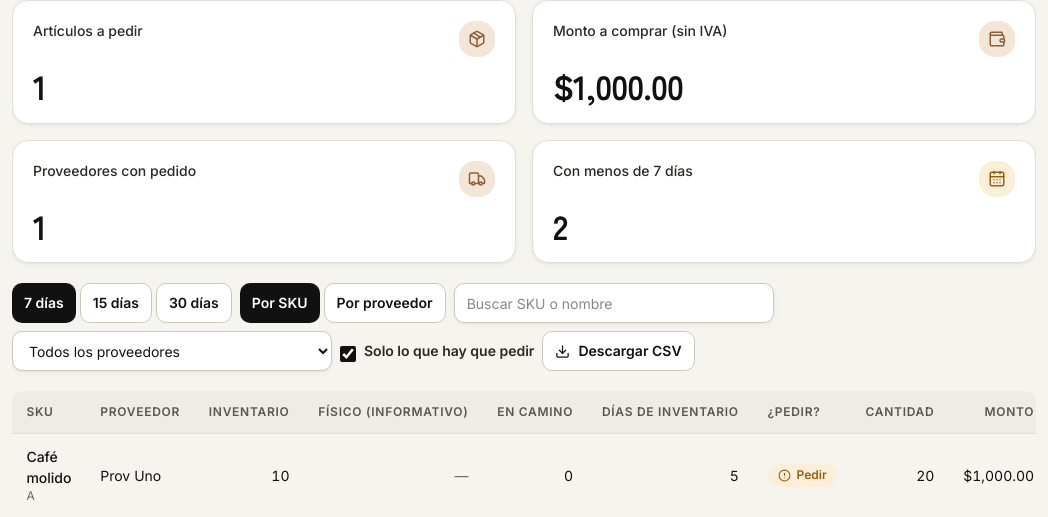
Qué pedir: correcciones I5 e I6 › la vista por proveedor cuenta todos sus artículos aunque solo muestre a quien hay que pedirle
Click the button "Por proveedor".
click(385, 303)  # box x1=324 y1=283 x2=446 y2=323
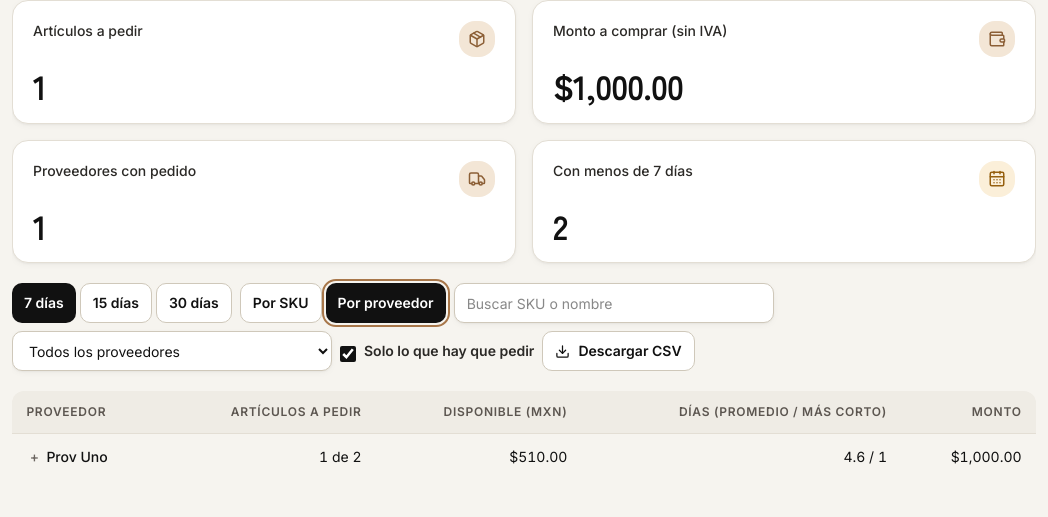
Result: the row "+ Prov Uno 1 de 2 $510.00 4.6 / 1 $1,000.00" is shown at x1=12 y1=434 x2=1036 y2=479
